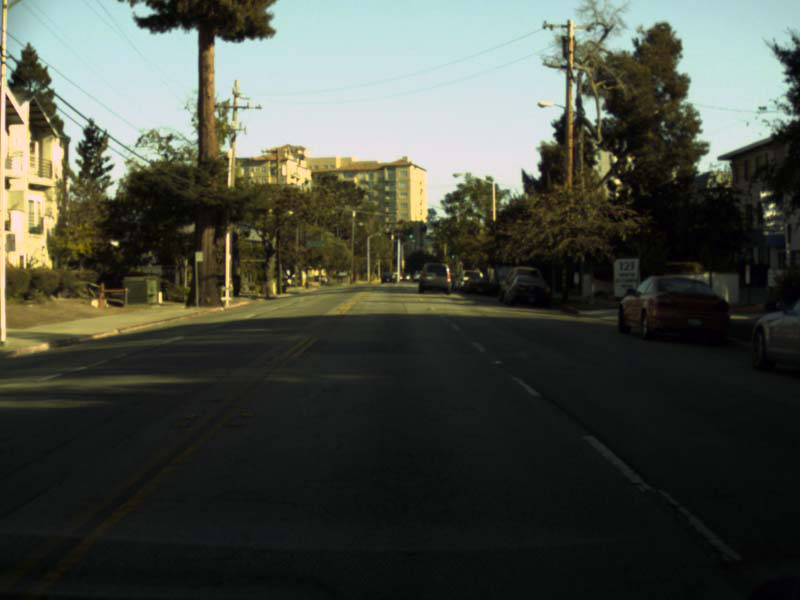Green: (408, 228, 413, 238), (451, 252, 455, 259)
